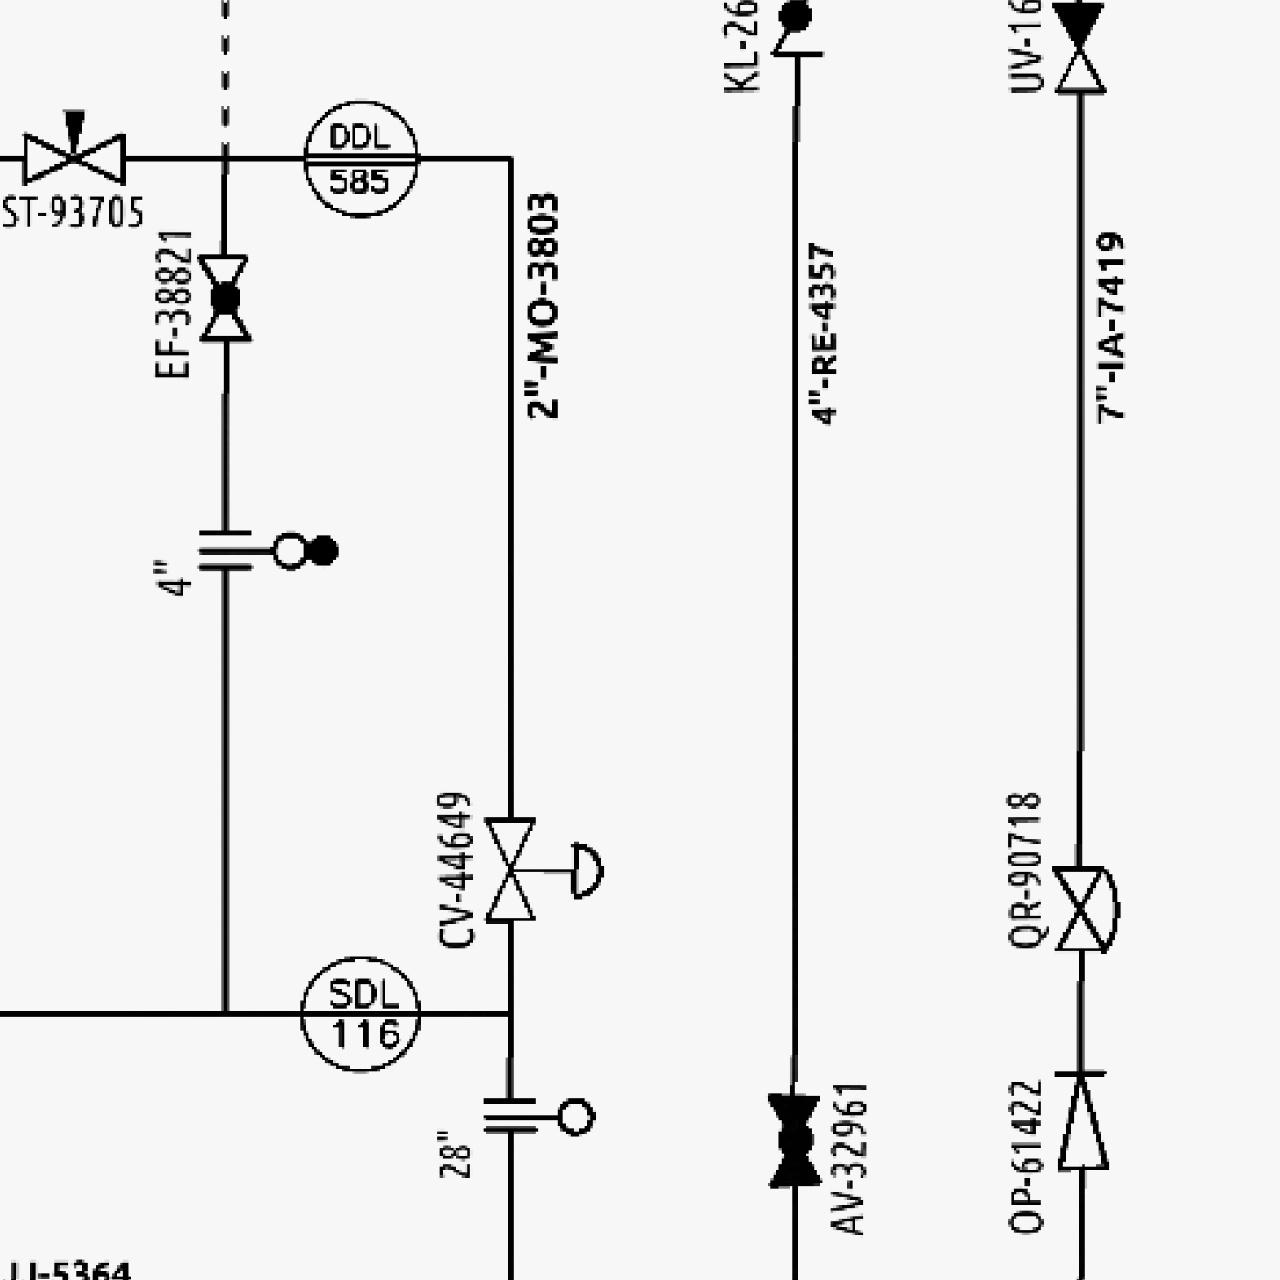Control-Panel: (297, 94, 424, 221)
